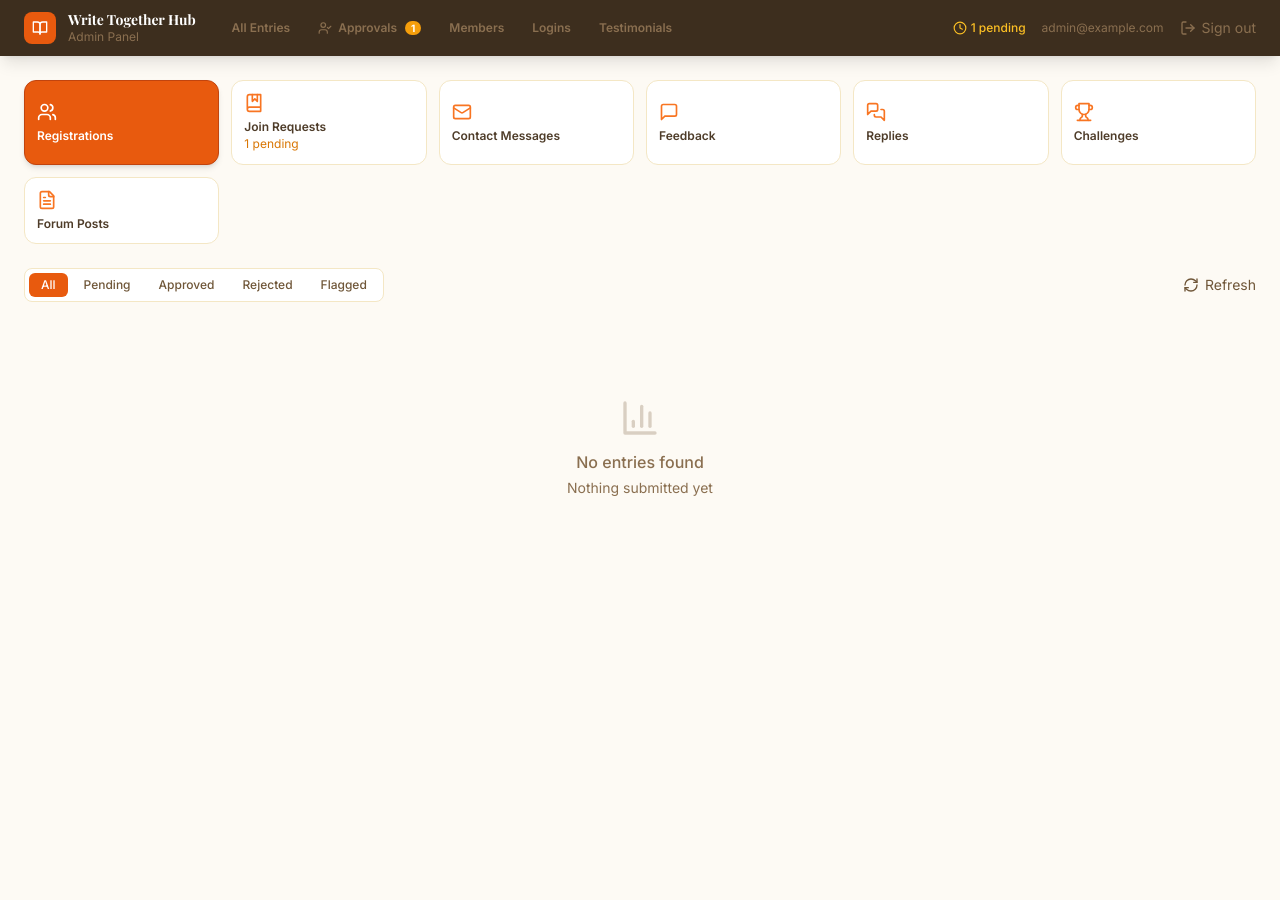
Test: AdminDashboard approvals › shows the error and does not mark the entry approved when the function fails
The image size is (1280, 900).
What coordinates should you click on to do the following:
click the button "Join Requests 1 pending"
I would click on:
 (329, 122)
Its box is [231,80,427,165].
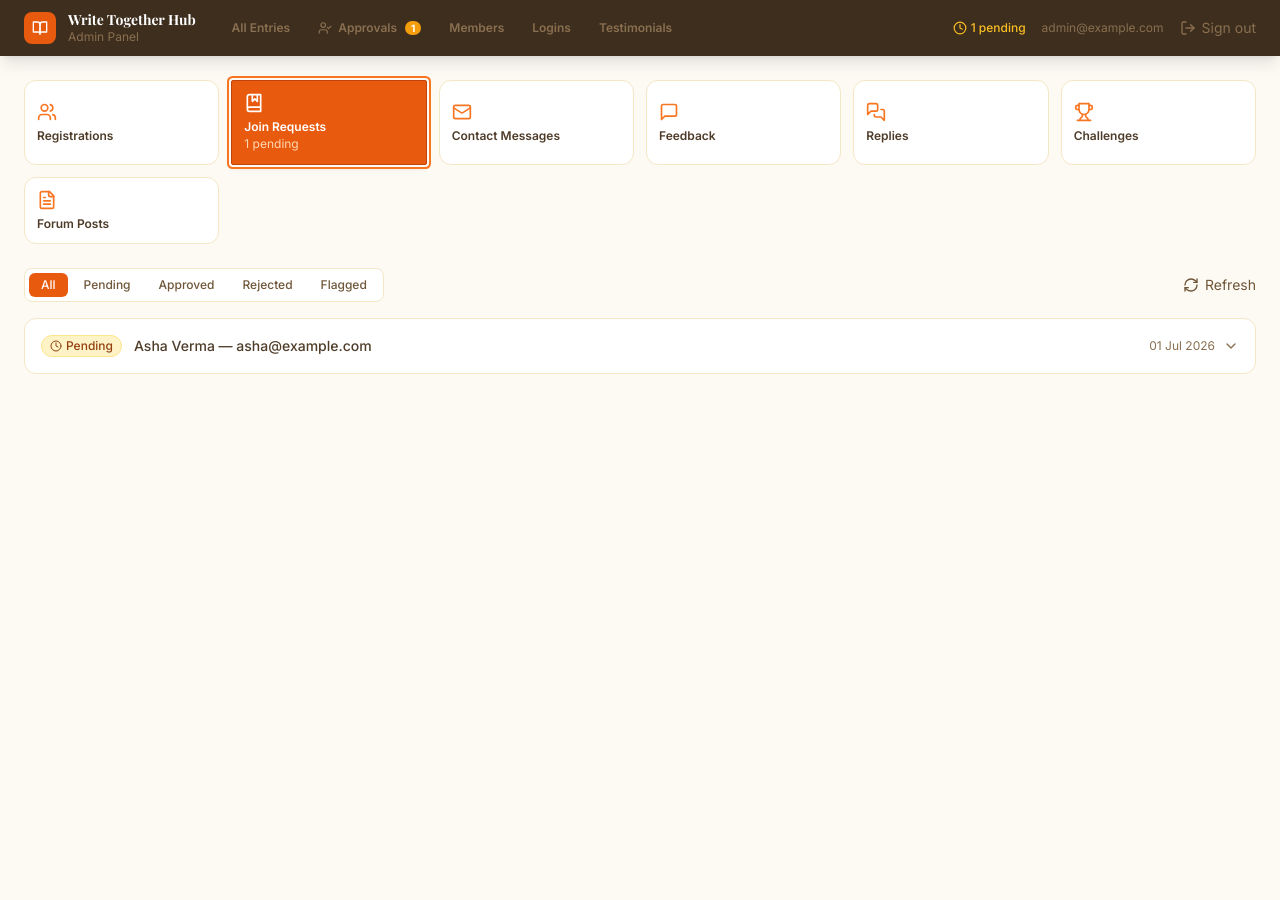
What coordinates should you click on to do the following:
click the button "Pending Asha Verma — asha@example.com 01 Jul 2026"
I would click on:
 (82, 346)
Its box is [25,319,1255,373].
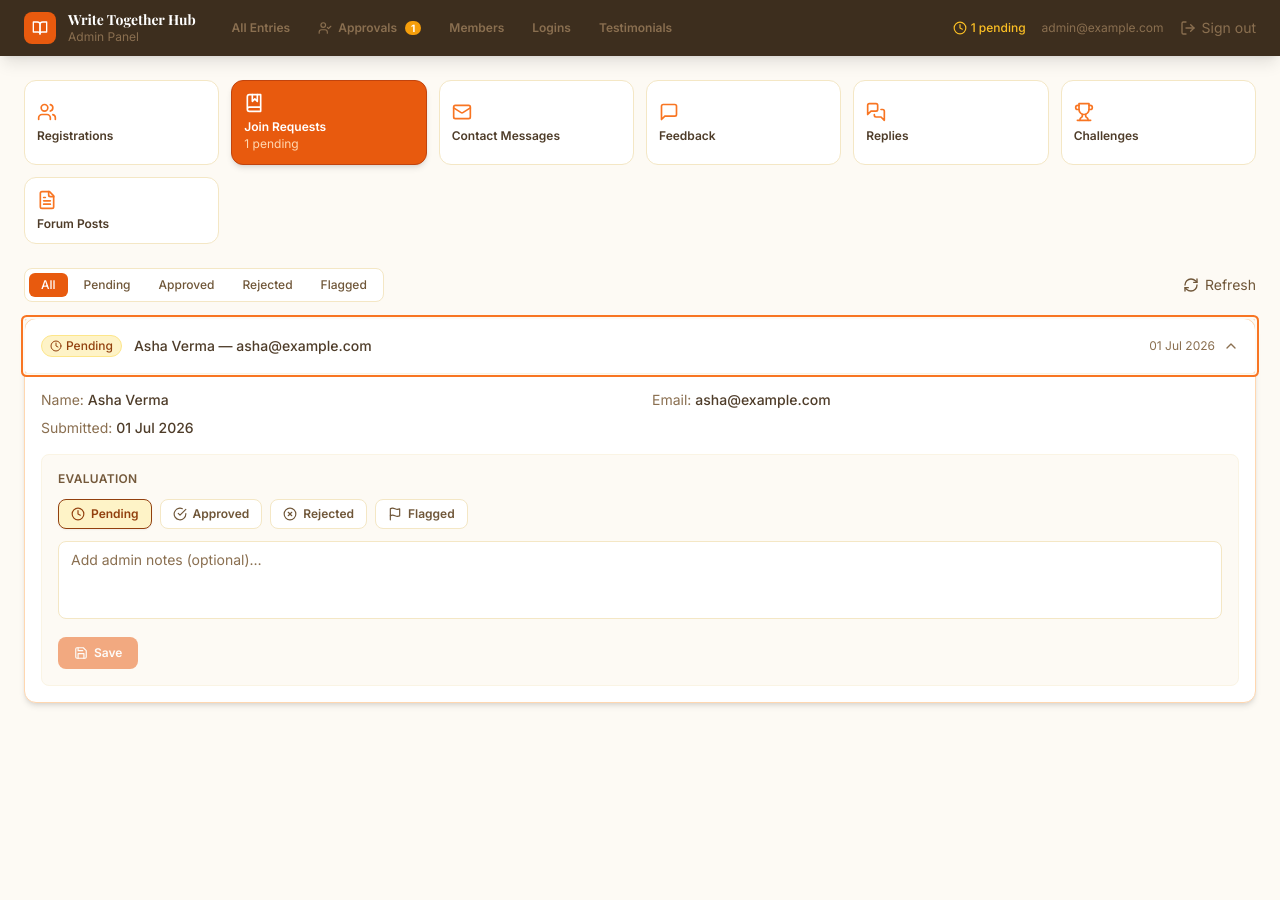
expect the text "Evaluation" is shown: met, box [58,471,138,486]
What coordinates should you click on to do the following:
click the button "Approved" below "Evaluation"
I would click on:
 (211, 514)
Its box is [160,499,262,529].
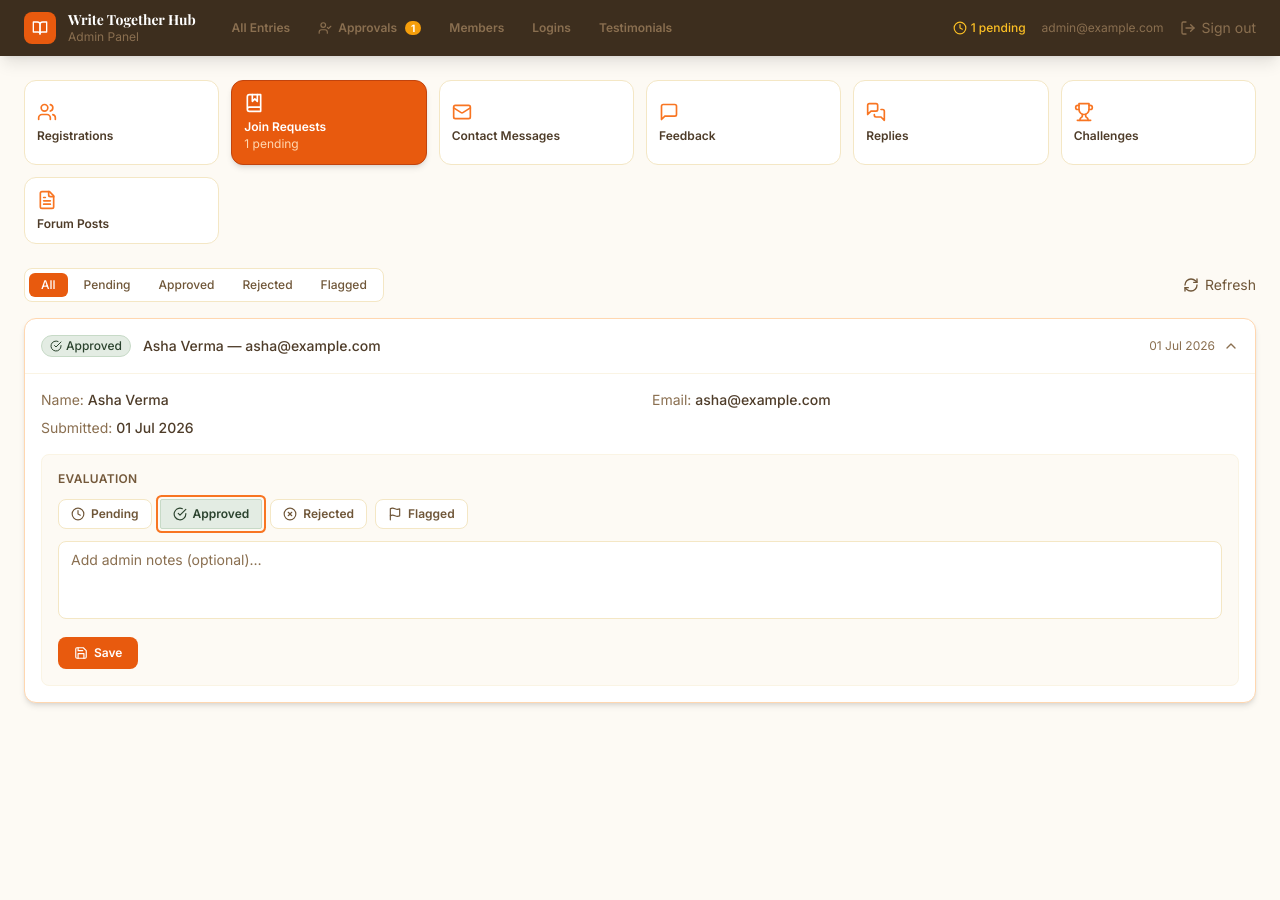
What coordinates should you click on to do the following:
click the button "Save"
I would click on:
 (98, 653)
Its box is [58,637,138,669].
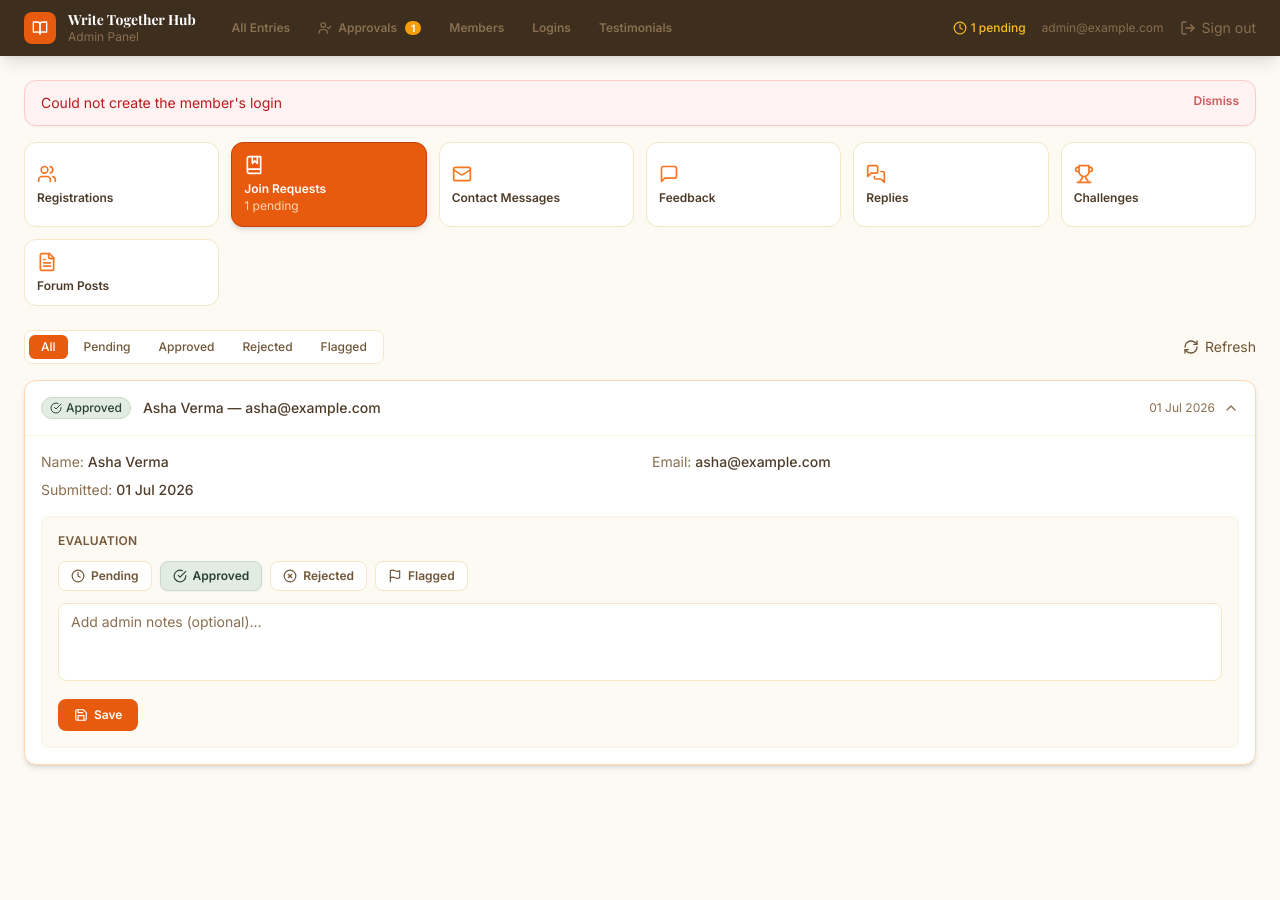
expect the text "Could not create the member's login" is shown: met, box [41,93,282,113]
